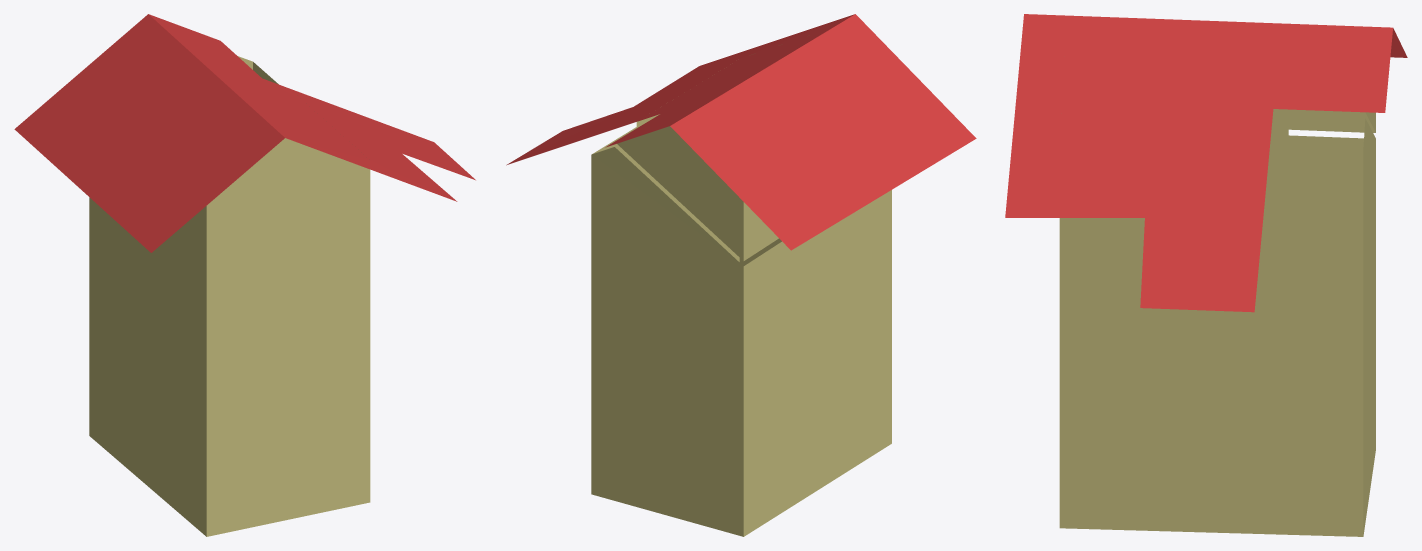
The picture shows the model from 3 angles, left to right: view 1: azimuth 30°, elevation 25°; view 2: azimuth 150°, elevation 25°; view 3: azimuth 270°, elevation 25°; orthographic projection. The views are drawn at different scales.
Bounding box in the file's own units: 7.87 × 6.36 × 7.98.
